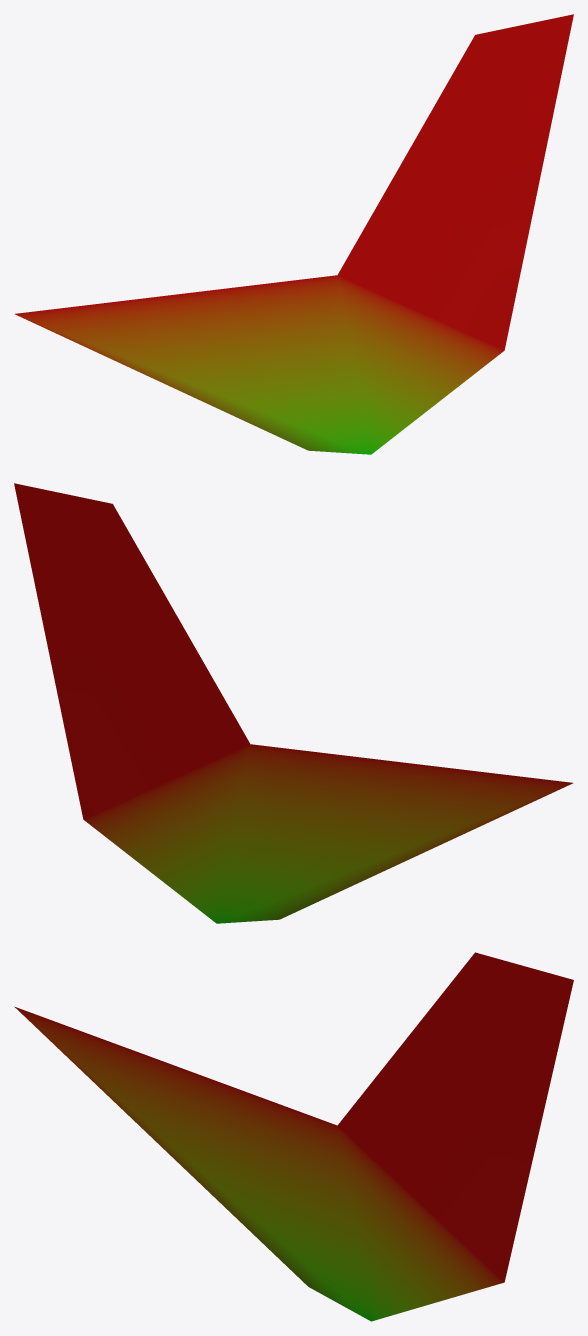
File: Var18_LOD3.fbx
3 views of the same model, one above another, from view 1: azimuth 30°, elevation 25°; view 2: azimuth 150°, elevation 25°; view 3: azimuth 330°, elevation 25° (orthographic).
Visible parts, largest first — view 1: _hzle_Var18_LOD3; view 2: _hzle_Var18_LOD3; view 3: _hzle_Var18_LOD3.
Boxes of the visible parts, <box> form: _hzle_Var18_LOD3: <box>14,14,573,454</box>; _hzle_Var18_LOD3: <box>14,483,573,923</box>; _hzle_Var18_LOD3: <box>14,952,573,1321</box>.
Bounding box in the file's own units: 28.12 × 18.93 × 1.82e-12.
